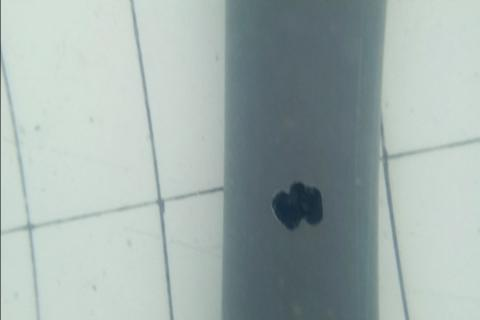kebocoran: (271, 180, 324, 230)
